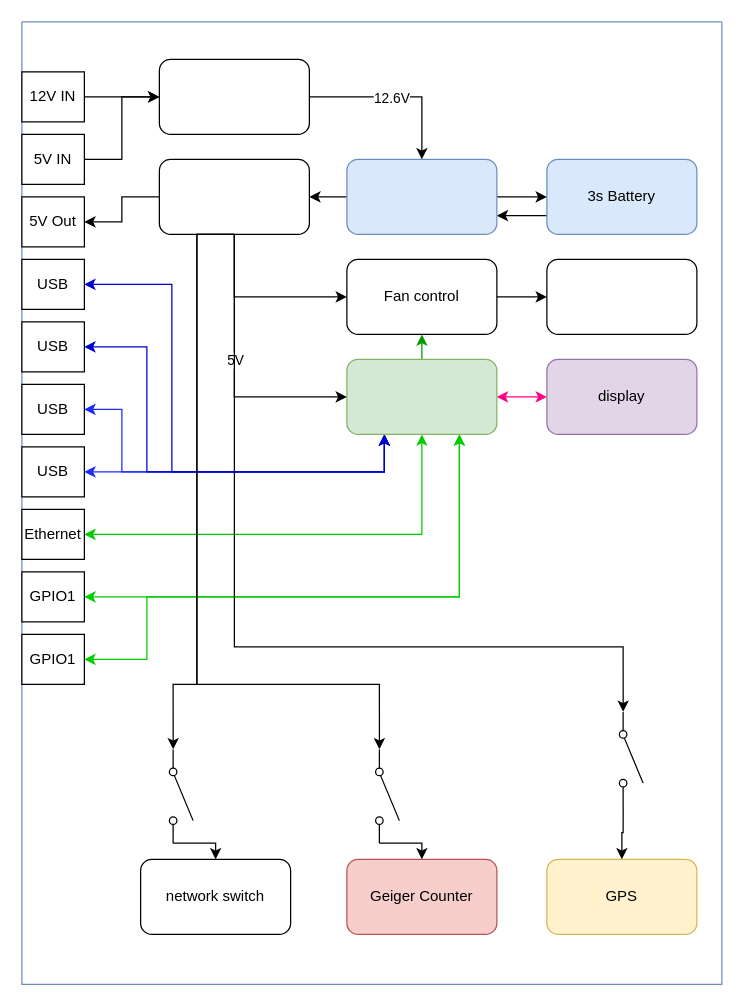
This 744x1006 diagram has some shape labels left out. Each missing label, with the centre of its shape:
"12.6V Reg" goes at point 233,96.
"5V 3A Reg" goes at point 233,196.
"BMS" goes at point 421,196.
"Fan" goes at point 621,296.
"Rasp Pi" goes at point 421,396.
